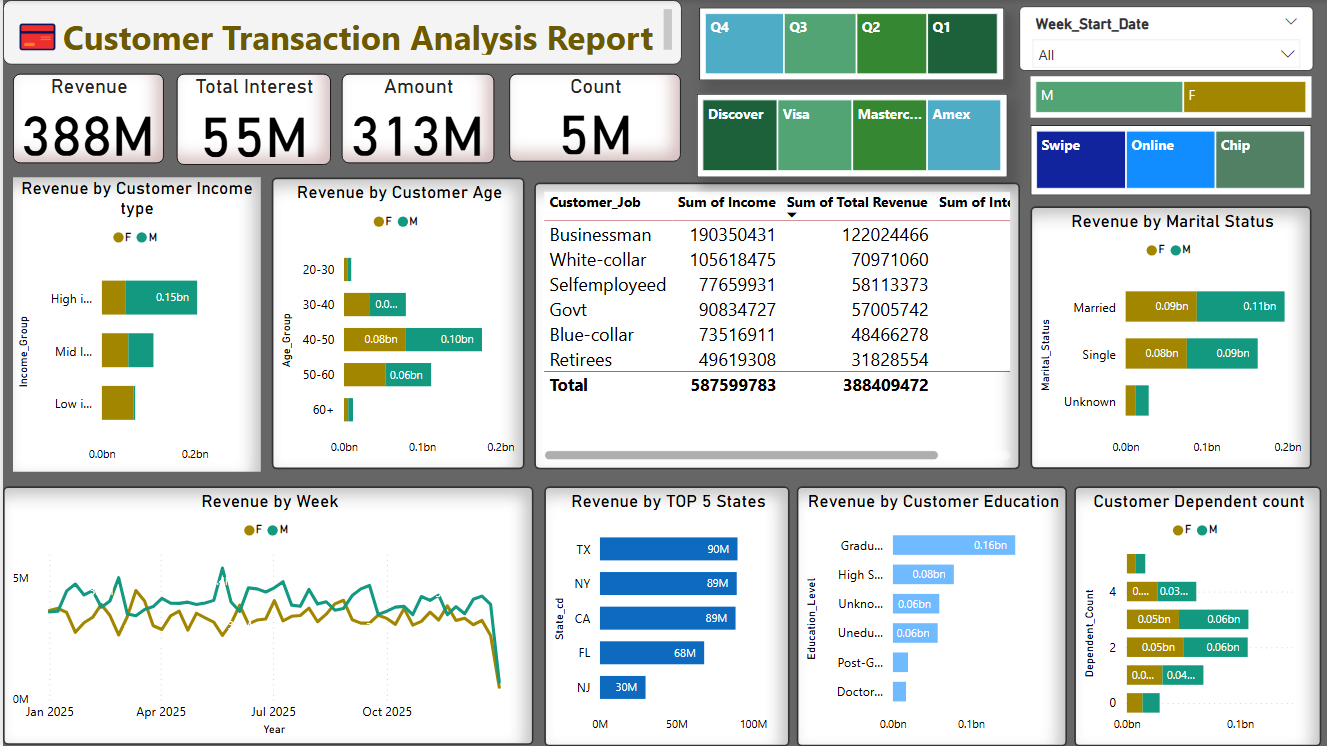

The dashboard page shown, as its layout file describes it:
{"tool":"powerbi","page":{"name":"CC Customer Report","canvas":[1280,720],"ordinal":1},"visuals":[{"type":"barChart","title":"Revenue by Customer Income type","fields":{"Y":["Sum(transactionsdb cc_details.Total Revenue)"],"Category":["transactionsdb cust_detail.Income_Group"],"Series":["transactionsdb cust_detail.Gender"]},"box":[10.1,171.7,239.5,284.2],"z":0},{"type":"tableEx","fields":{"Values":["transactionsdb cust_detail.Customer_Job","transactionsdb cust_detail.Income","Sum(transactionsdb cc_details.Total Revenue)","Sum(transactionsdb cc_details.Interest_Earned)"]},"box":[512.2,176,468.9,277],"z":1000},{"type":"treemap","fields":{"Group":["transactionsdb cc_details.Qtr"],"Values":["Avg(transactionsdb cc_details.Client_Num)"]},"box":[672.3,7.2,294.3,70.7],"z":2000},{"type":"treemap","fields":{"Values":["Avg(transactionsdb cc_details.Client_Num)"],"Group":["transactionsdb cc_details.Card_Category"]},"box":[669.4,90.9,300.1,80.8],"z":3000},{"type":"treemap","fields":{"Values":["Avg(transactionsdb cc_details.Client_Num)"],"Group":["transactionsdb cc_details.Use_Chip"]},"box":[991.2,121.2,271.2,67.8],"z":4000},{"type":"card","title":"Revenue","fields":{"Values":["Sum(transactionsdb cc_details.Total Revenue)"]},"box":[10.1,70.7,145.7,86.6],"z":5000},{"type":"card","title":"Amount","fields":{"Values":["Sum(transactionsdb cc_details.Total_Trans_Amt)"]},"box":[327.5,70.7,147.2,86.6],"z":6000},{"type":"card","title":"Count","fields":{"Values":["Sum(transactionsdb cc_details.Total_Trans_Cnt)"]},"box":[489.1,70.7,165.9,85.1],"z":7000},{"type":"card","title":"Total Interest","fields":{"Values":["Sum(transactionsdb cc_details.Interest_Earned)"]},"box":[167.4,70.7,148.6,88],"z":8000},{"type":"slicer","fields":{"Values":["transactionsdb cc_details.Week_Start_Date"]},"box":[981.1,5.8,284.2,62],"z":9000},{"type":"textbox","box":[0,0,655,62],"z":11000},{"type":"image","box":[10.1,10.1,47.6,51.9],"z":12000},{"type":"lineChart","title":" Revenue by Week","fields":{"Y":["Sum(transactionsdb cc_details.Total Revenue)"],"Series":["transactionsdb cust_detail.Gender"],"Category":["transactionsdb cc_details.Week_Start_Date.Variation.Date Hierarchy.Year","transactionsdb cc_details.Week_Start_Date.Variation.Date Hierarchy.Month","transactionsdb cc_details.Week_Start_Date.Variation.Date Hierarchy.Day"]},"box":[0,468.9,512.2,249.6],"z":13000},{"type":"treemap","fields":{"Group":["transactionsdb cust_detail.Gender"],"Values":["Sum(transactionsdb cc_details.Total Revenue)"]},"box":[991.2,73.6,271.2,40.4],"z":14000},{"type":"barChart","title":"Revenue by Customer Age","fields":{"Y":["Sum(transactionsdb cc_details.Total Revenue)"],"Category":["transactionsdb cust_detail.Age_Group"],"Series":["transactionsdb cust_detail.Gender"]},"box":[259.7,171.7,243.8,281.3],"z":15000},{"type":"barChart","title":"Customer Dependent count","fields":{"Y":["Sum(transactionsdb cc_details.Total Revenue)"],"Category":["transactionsdb cust_detail.Dependent_Count"],"Series":["transactionsdb cust_detail.Gender"]},"box":[1034.5,468.9,238.1,251],"z":16000},{"type":"barChart","title":" Revenue by Customer Education","fields":{"Y":["Sum(transactionsdb cc_details.Total Revenue)"],"Category":["transactionsdb cust_detail.Education_Level"]},"box":[766.1,468.9,261.1,251],"z":17000},{"type":"barChart","title":" Revenue by TOP 5 States","fields":{"Y":["Sum(transactionsdb cc_details.Total Revenue)"],"Category":["transactionsdb cust_detail.State_cd"]},"box":[522.3,468.9,236.6,251],"z":18000},{"type":"barChart","title":" Revenue by Marital Status","fields":{"Y":["Sum(transactionsdb cc_details.Total Revenue)"],"Category":["transactionsdb cust_detail.Marital_Status"],"Series":["transactionsdb cust_detail.Gender"]},"box":[991.2,199.1,271.2,253.9],"z":19000}]}

Visuals, with their boxes in screenshot pixels (x1, y1, x2, y2), scaled from the page's 1280x720 canvas onto the 1327x746 screenshot:
"Revenue by Customer Income type" barChart: {"left": 10, "top": 178, "right": 259, "bottom": 472}
tableEx - transactionsdb cust_detail.Customer_Job x transactionsdb cust_detail.Income: {"left": 531, "top": 182, "right": 1017, "bottom": 469}
treemap - transactionsdb cc_details.Qtr x Avg(transactionsdb cc_details.Client_Num): {"left": 697, "top": 7, "right": 1002, "bottom": 81}
treemap - Avg(transactionsdb cc_details.Client_Num) x transactionsdb cc_details.Card_Category: {"left": 694, "top": 94, "right": 1005, "bottom": 178}
treemap - Avg(transactionsdb cc_details.Client_Num) x transactionsdb cc_details.Use_Chip: {"left": 1028, "top": 126, "right": 1309, "bottom": 196}
"Revenue" card: {"left": 10, "top": 73, "right": 162, "bottom": 163}
"Amount" card: {"left": 340, "top": 73, "right": 492, "bottom": 163}
"Count" card: {"left": 507, "top": 73, "right": 679, "bottom": 161}
"Total Interest" card: {"left": 174, "top": 73, "right": 328, "bottom": 164}
slicer - transactionsdb cc_details.Week_Start_Date: {"left": 1017, "top": 6, "right": 1312, "bottom": 70}
textbox: {"left": 0, "top": 0, "right": 679, "bottom": 64}
image: {"left": 10, "top": 10, "right": 60, "bottom": 64}
" Revenue by Week" lineChart: {"left": 0, "top": 486, "right": 531, "bottom": 744}
treemap - transactionsdb cust_detail.Gender x Sum(transactionsdb cc_details.Total Revenue): {"left": 1028, "top": 76, "right": 1309, "bottom": 118}
"Revenue by Customer Age" barChart: {"left": 269, "top": 178, "right": 522, "bottom": 469}
"Customer Dependent count" barChart: {"left": 1072, "top": 486, "right": 1319, "bottom": 745}
" Revenue by Customer Education" barChart: {"left": 794, "top": 486, "right": 1065, "bottom": 745}
" Revenue by TOP 5 States" barChart: {"left": 541, "top": 486, "right": 787, "bottom": 745}
" Revenue by Marital Status" barChart: {"left": 1028, "top": 206, "right": 1309, "bottom": 469}
